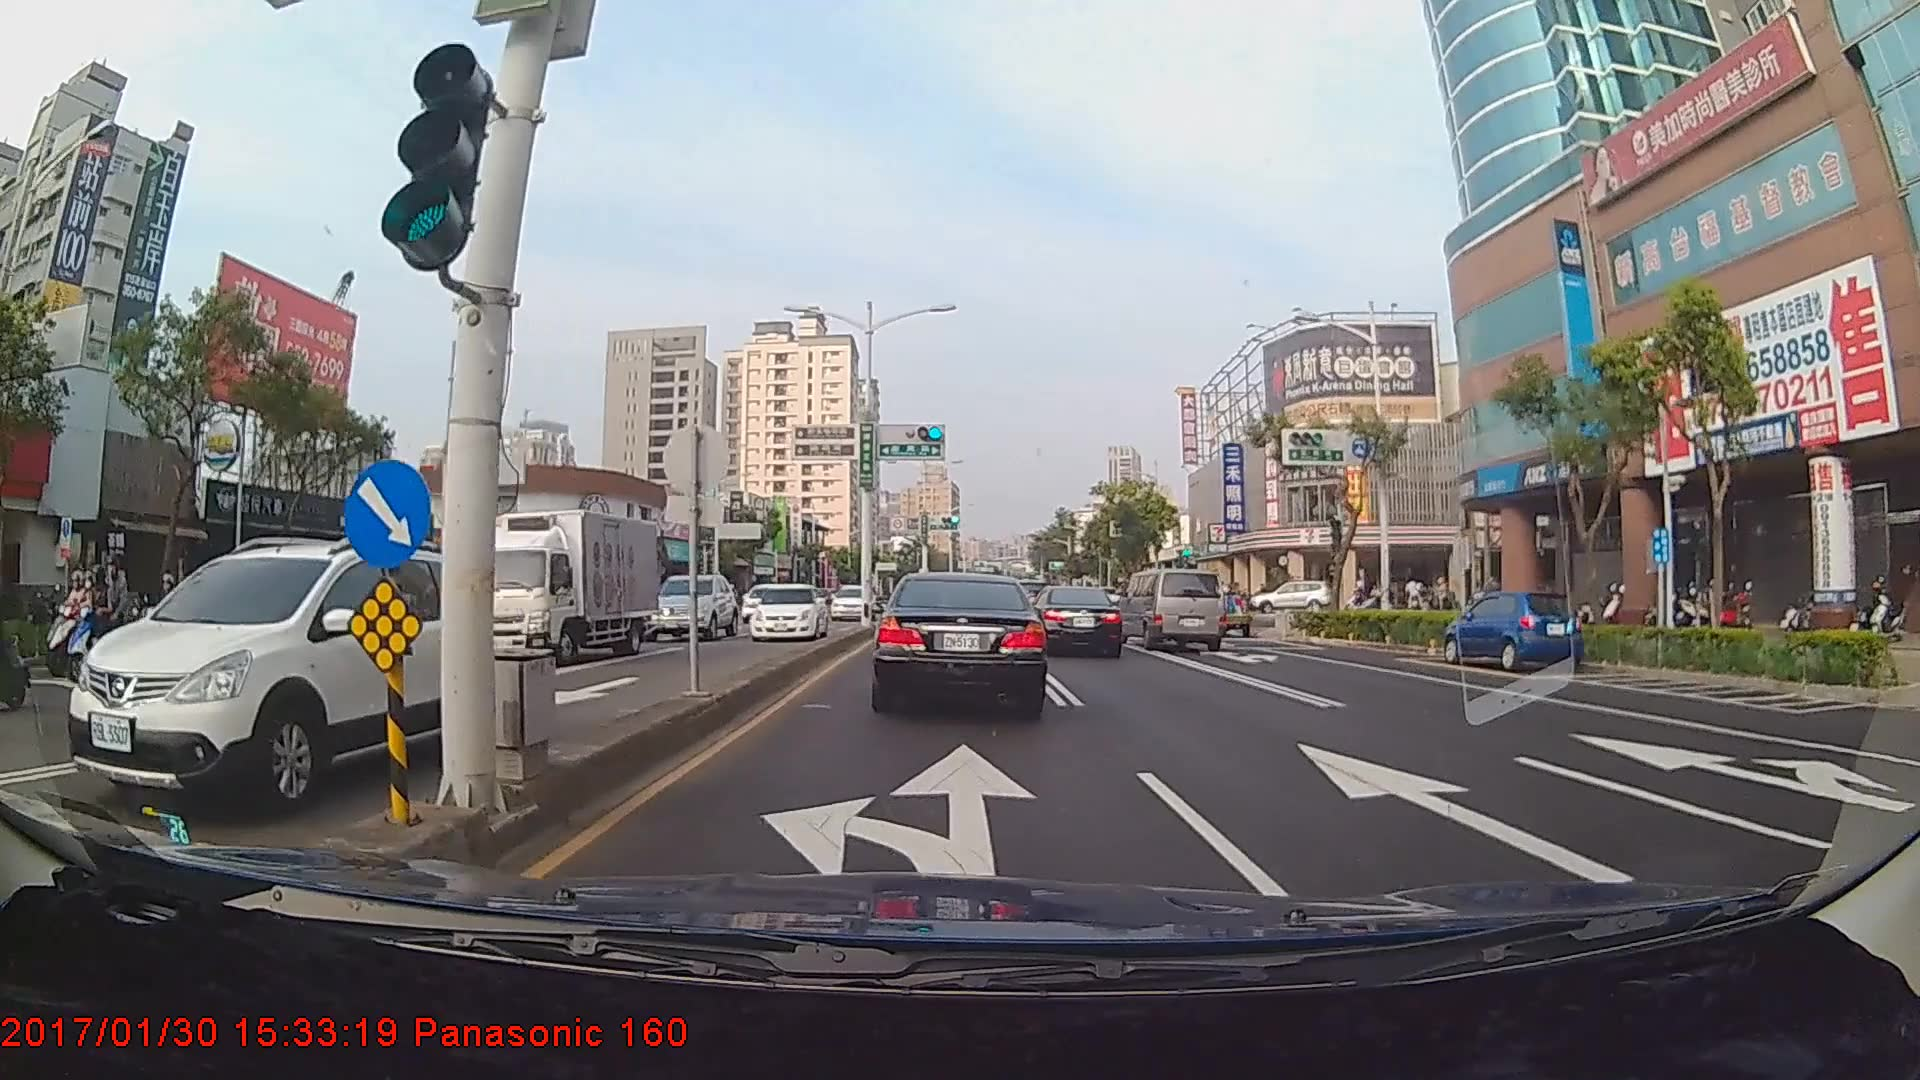rider: (58, 559, 145, 683)
vehicle: (73, 523, 503, 822), (469, 505, 658, 663), (874, 567, 1046, 715), (1439, 585, 1583, 671), (1122, 568, 1226, 653), (640, 569, 737, 638), (1036, 585, 1123, 656), (739, 576, 823, 641), (1251, 582, 1331, 614), (740, 581, 790, 620), (826, 578, 867, 620)
